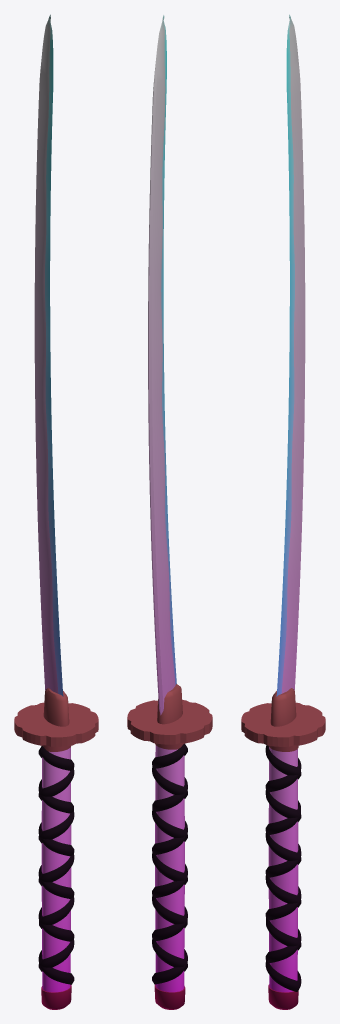
File: katana.glb
3 views of the same model, side by side, from view 1: azimuth 30°, elevation 25°; view 2: azimuth 150°, elevation 25°; view 3: azimuth 330°, elevation 25° (orthographic).
Parts seen in each view (by area): view 1: Katana; view 2: Katana; view 3: Katana.
Part boxes in pixels (bbox=[...]): Katana: bbox=[14, 14, 98, 1009]; Katana: bbox=[127, 15, 212, 1009]; Katana: bbox=[241, 14, 325, 1009].
Bounding box in the file's own units: 0.0792 × 1.03 × 0.0794.
